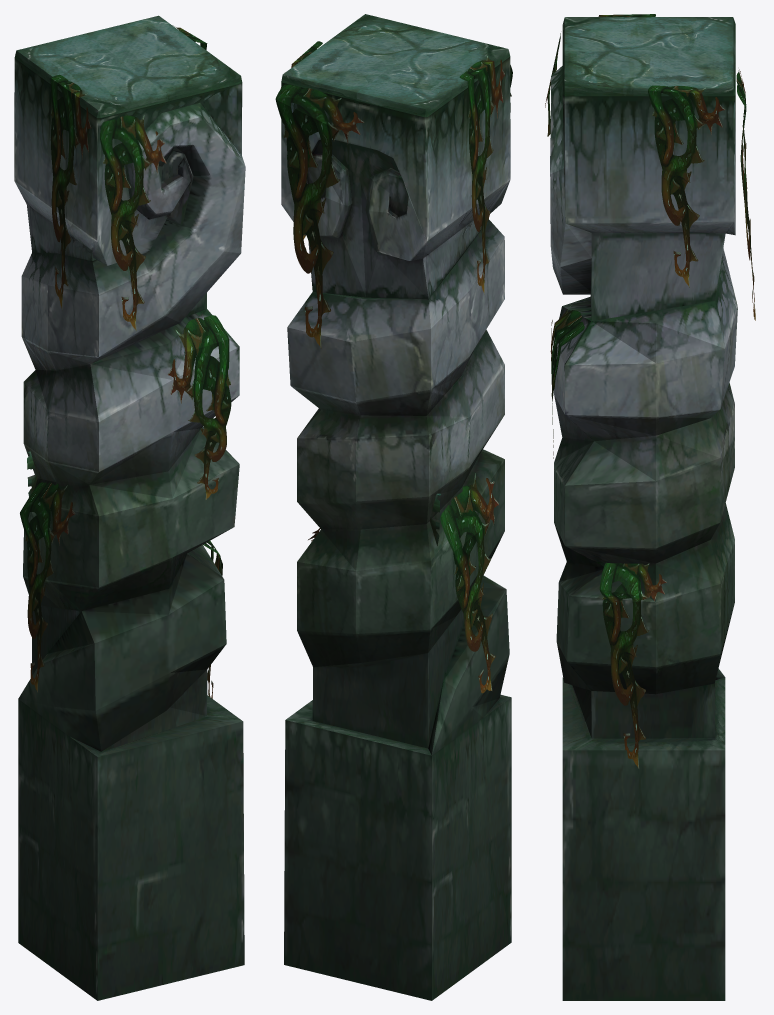
File: sunken_pillar_large.fbx
3 views of the same model, side by side, from view 1: azimuth 30°, elevation 25°; view 2: azimuth 150°, elevation 25°; view 3: azimuth 270°, elevation 25° (orthographic). The views are drawn at different scales.
Parts seen in each view (by area): view 1: obj3.001; view 2: obj3.001; view 3: obj3.001.
Boxes of the visible parts, x1,y1,x2,y2 form: obj3.001: (14, 15, 245, 1000); obj3.001: (275, 14, 512, 1000); obj3.001: (545, 14, 755, 1000).
Bounding box in the file's own units: 3.5 × 16.66 × 3.57.
